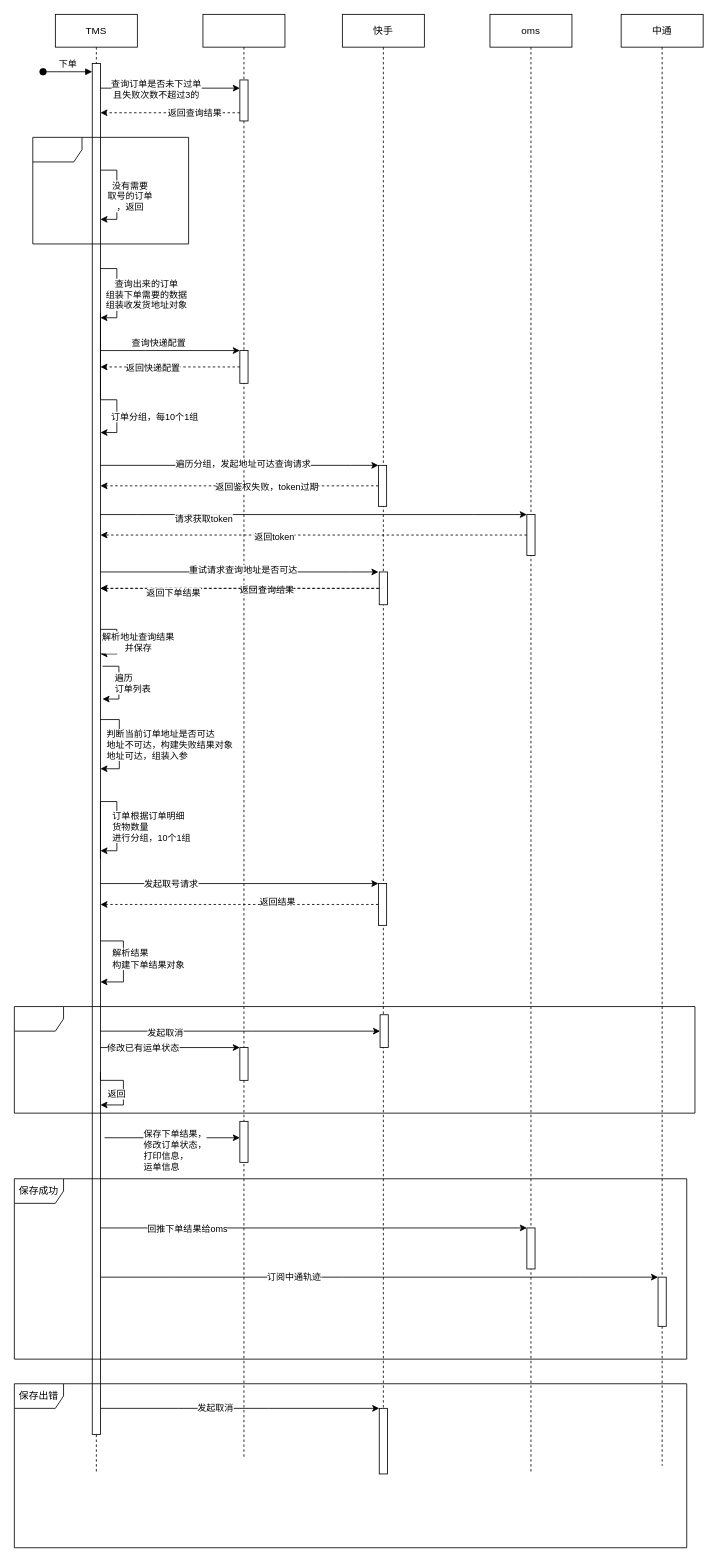
Image size: 718x1562. Some labels were removed from this diagram. Each missing label, with the box of its shape:
mysql: (202, 14, 285, 1458)
查询结果为空: (32, 137, 189, 244)
该订单第三次下单失败: (14, 1006, 695, 1113)
